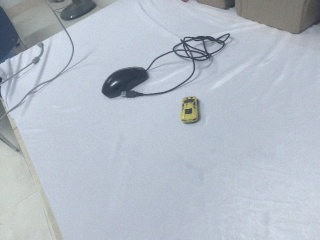box: (233, 1, 320, 34), (194, 1, 237, 10)
mouse: (101, 67, 149, 99), (60, 1, 97, 21)
toy_car: (180, 96, 199, 124)
